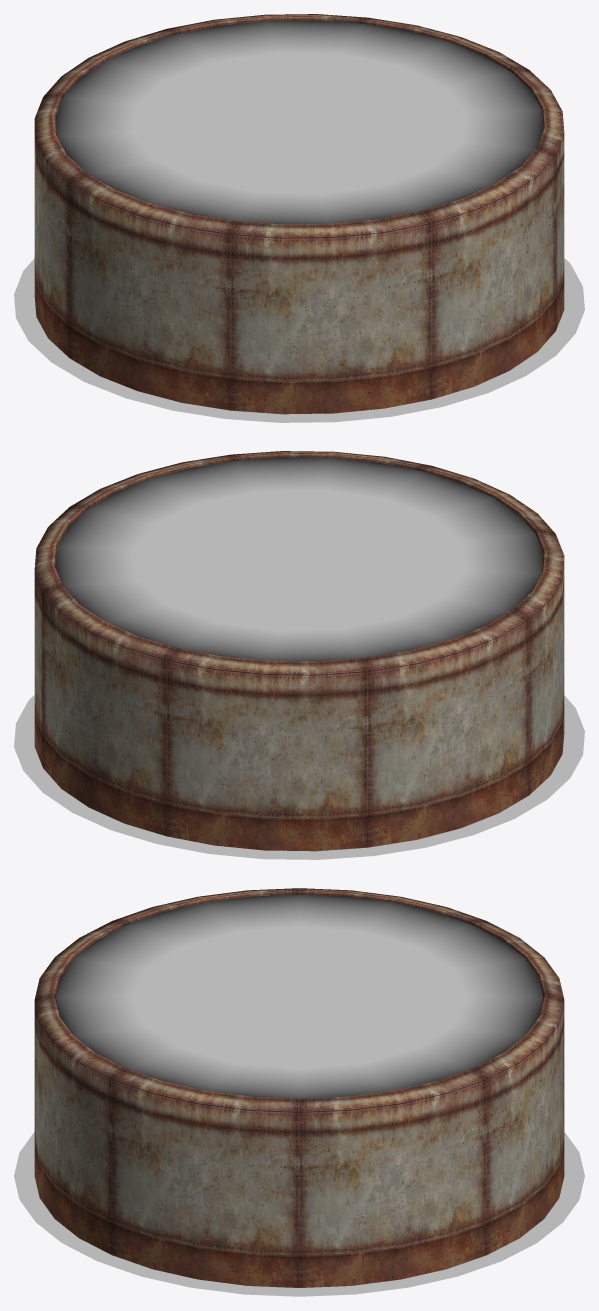
Rendered from WaterTank.FBX.
3 renders of one model, top to bottom at view 1: azimuth 30°, elevation 25°; view 2: azimuth 150°, elevation 25°; view 3: azimuth 270°, elevation 25°, orthographic.
Parts seen in each view (by area): view 1: ShackExteriorWaterTank01:0, ShackExteriorWaterTank01:1, ShackExteriorWaterTank01:3; view 2: ShackExteriorWaterTank01:0, ShackExteriorWaterTank01:1, ShackExteriorWaterTank01:3; view 3: ShackExteriorWaterTank01:0, ShackExteriorWaterTank01:1, ShackExteriorWaterTank01:3.
Part boxes in pixels (box(x1,y1,x2,y2)): ShackExteriorWaterTank01:0: box(34, 14, 564, 414); ShackExteriorWaterTank01:1: box(55, 20, 543, 224); ShackExteriorWaterTank01:3: box(14, 258, 584, 422); ShackExteriorWaterTank01:0: box(34, 451, 564, 851); ShackExteriorWaterTank01:1: box(55, 457, 543, 661); ShackExteriorWaterTank01:3: box(14, 695, 584, 859); ShackExteriorWaterTank01:0: box(34, 888, 564, 1287); ShackExteriorWaterTank01:1: box(55, 894, 543, 1098); ShackExteriorWaterTank01:3: box(14, 1132, 584, 1296).
Bounding box in the file's own units: 4.14 × 1.46 × 4.14.
